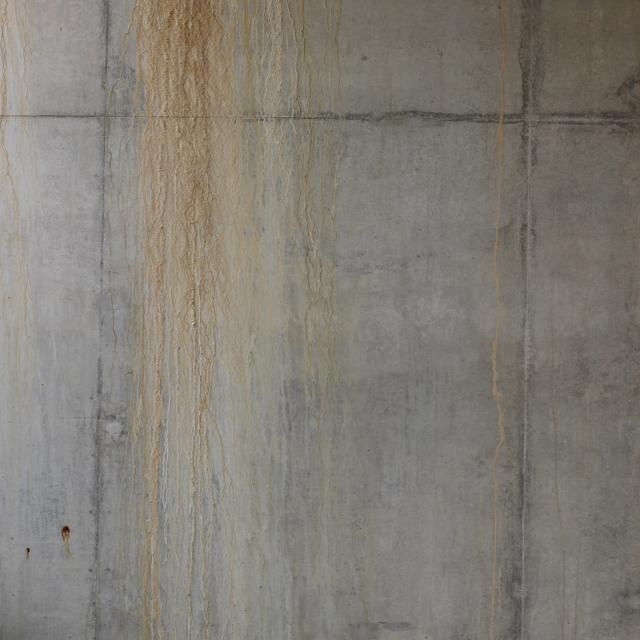corrosion: (125, 0, 359, 640), (449, 0, 640, 640), (0, 0, 46, 430), (22, 518, 81, 569)
